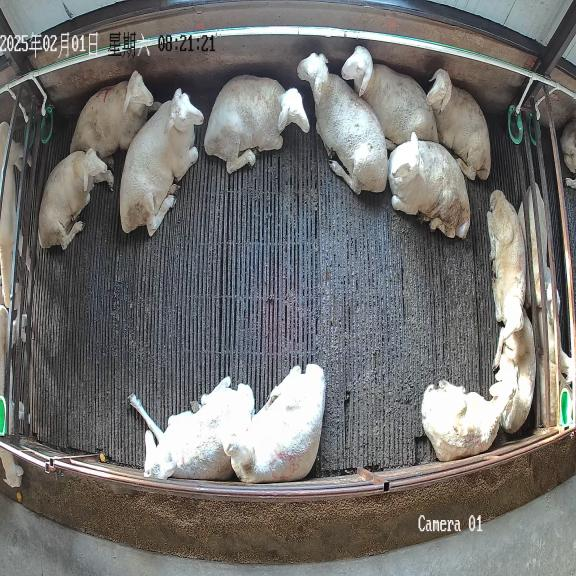lying: (130, 376, 254, 480), (297, 52, 387, 194), (221, 364, 325, 483), (120, 89, 203, 236), (421, 349, 518, 461), (204, 75, 310, 173), (341, 46, 438, 150), (388, 132, 470, 238), (70, 70, 161, 158), (38, 149, 113, 249), (426, 68, 490, 180), (487, 190, 526, 340), (493, 312, 536, 433)
